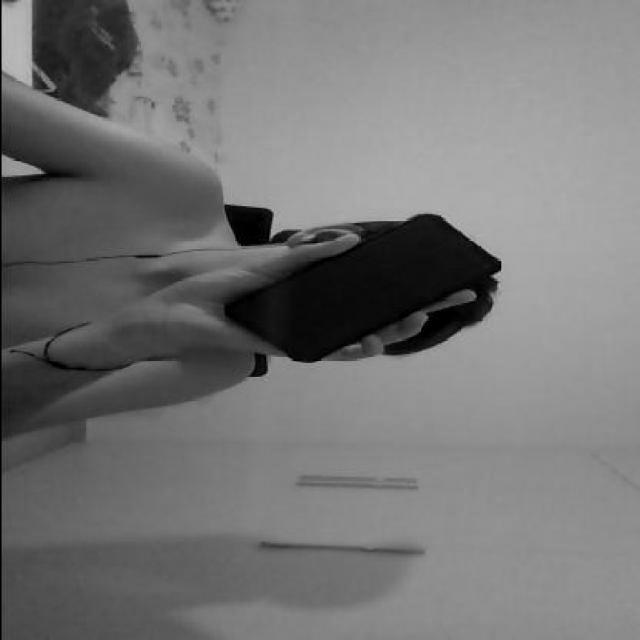fake: (224, 212, 501, 366)
